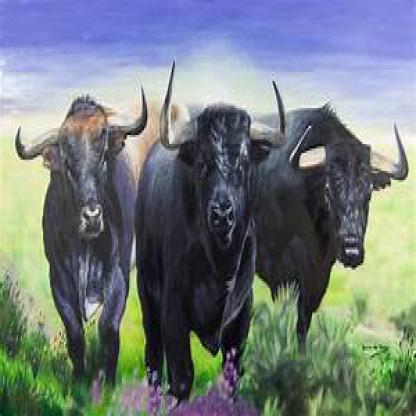cow: (136, 56, 288, 396), (12, 83, 147, 382), (261, 92, 409, 351)
